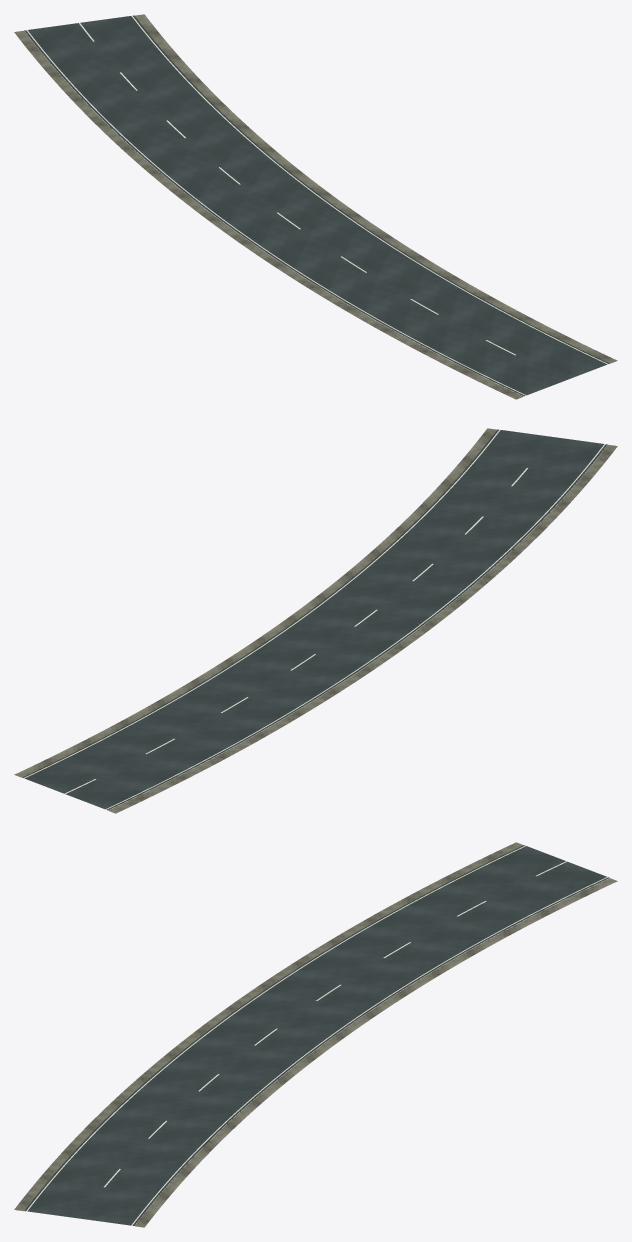
File: road_coastal_highway_curve_64m.glb
3 renders of one model, top to bottom at view 1: azimuth 30°, elevation 25°; view 2: azimuth 150°, elevation 25°; view 3: azimuth 330°, elevation 25°, orthographic.
Parts seen in each view (by area): view 1: road_surface, static_gravel, static_road_marking; view 2: road_surface, static_gravel, static_road_marking; view 3: road_surface, static_gravel, static_road_marking.
Boxes of the visible parts, left/top/right/bottom form: road_surface: left=24, top=15, right=609, bottom=396; static_gravel: left=14, top=14, right=617, bottom=399; static_road_marking: left=26, top=15, right=607, bottom=395; road_surface: left=22, top=429, right=607, bottom=810; static_gravel: left=14, top=428, right=617, bottom=813; static_road_marking: left=24, top=429, right=605, bottom=809; road_surface: left=24, top=845, right=609, bottom=1225; static_gravel: left=14, top=842, right=617, bottom=1227; static_road_marking: left=26, top=845, right=607, bottom=1225.
Size of the model in its own units: 12.38 by 0.027 by 65.89.
3 materials, 2 textured.
